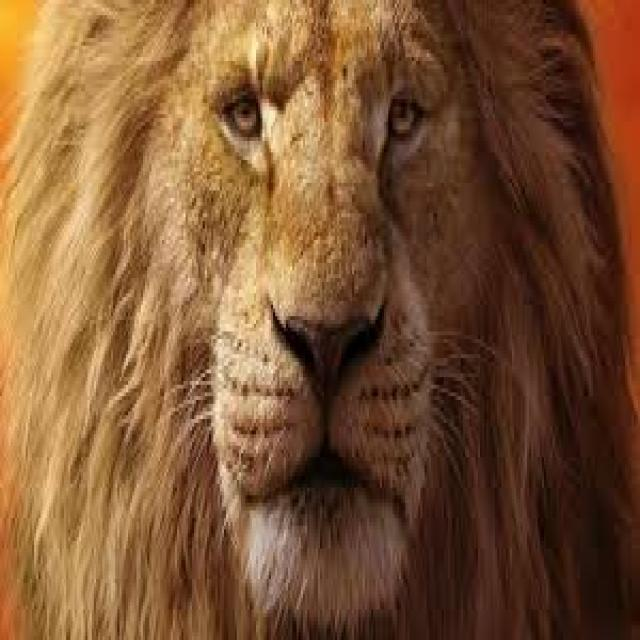Lion: (15, 9, 635, 607)
